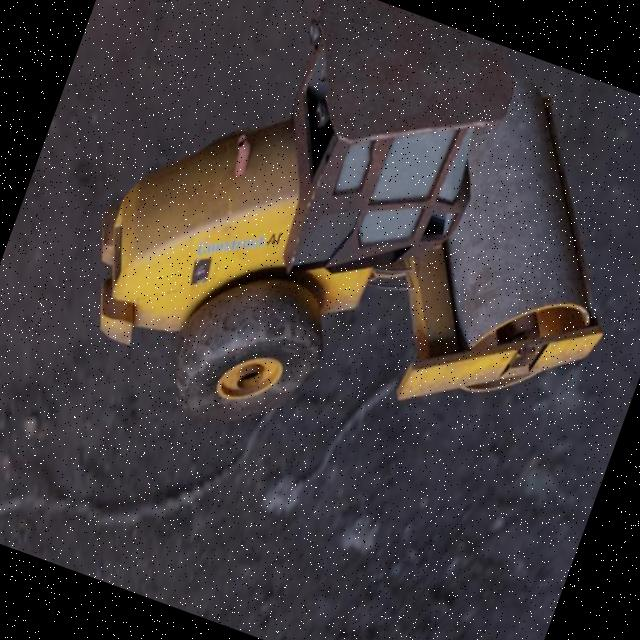Roller: (47, 0, 640, 541)
